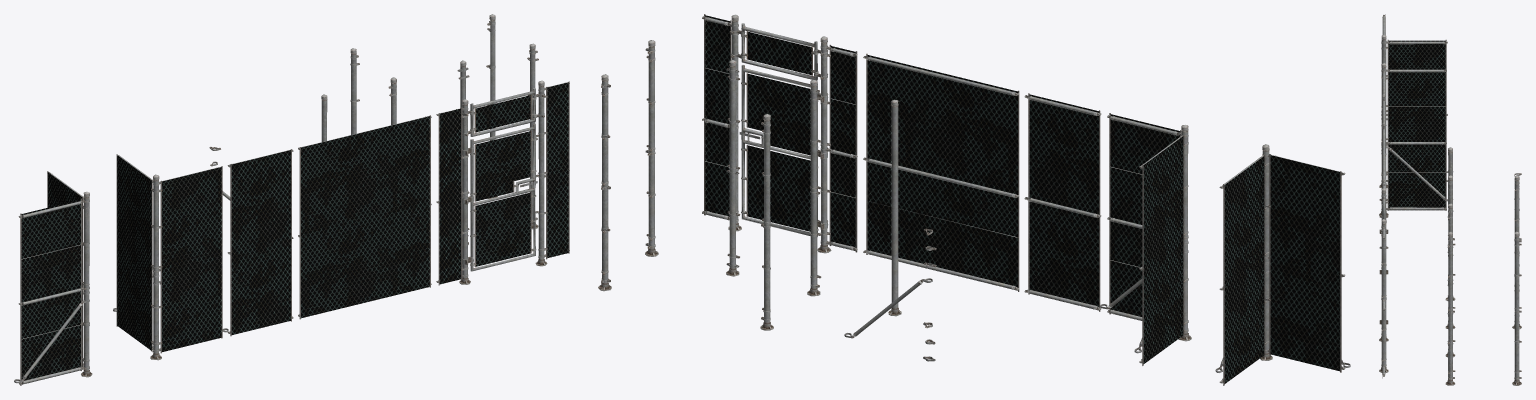
Rendered from modular-chainlink-fence.glb.
3 renders of one model, left to right at view 1: azimuth 30°, elevation 25°; view 2: azimuth 150°, elevation 25°; view 3: azimuth 270°, elevation 25°, orthographic. The views are drawn at different scales.
Parts seen in each view (by area): view 1: modular_chainlink_fence_door_gate, modular_chainlink_fence_door_latch; view 2: modular_chainlink_fence_door_gate, modular_chainlink_fence_door_latch; view 3: modular_chainlink_fence_door_gate, modular_chainlink_fence_door_latch.
Part boxes in pixels (x1=…): modular_chainlink_fence_door_gate: x1=21, y1=82, x2=568, y2=384; modular_chainlink_fence_door_latch: x1=14, y1=14, x2=569, y2=385; modular_chainlink_fence_door_gate: x1=705, y1=15, x2=1339, y2=383; modular_chainlink_fence_door_latch: x1=598, y1=14, x2=1350, y2=385; modular_chainlink_fence_door_gate: x1=1388, y1=40, x2=1445, y2=210; modular_chainlink_fence_door_latch: x1=1379, y1=14, x2=1521, y2=385.
Bounding box in the file's own units: 8.11 × 2.52 × 2.15.
2 materials, 2 textured.
